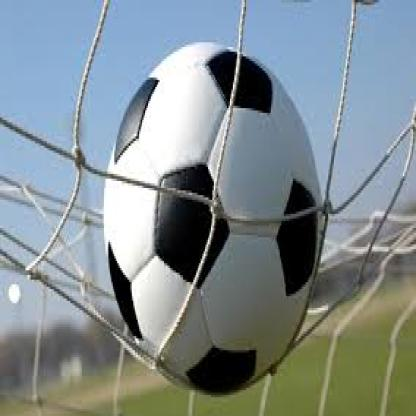ball: (103, 41, 324, 395)
